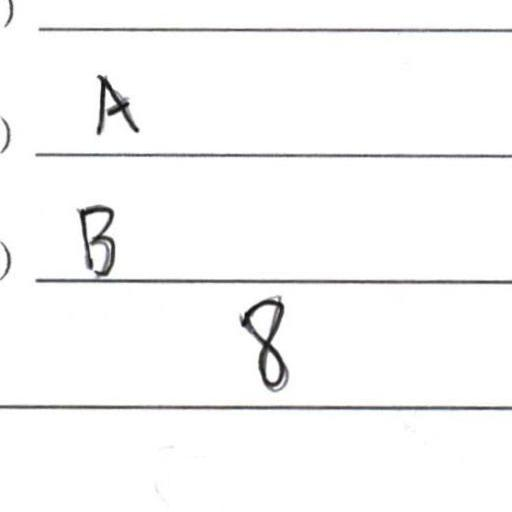ans: (230, 288, 292, 391), (70, 194, 119, 277), (93, 75, 140, 138)
